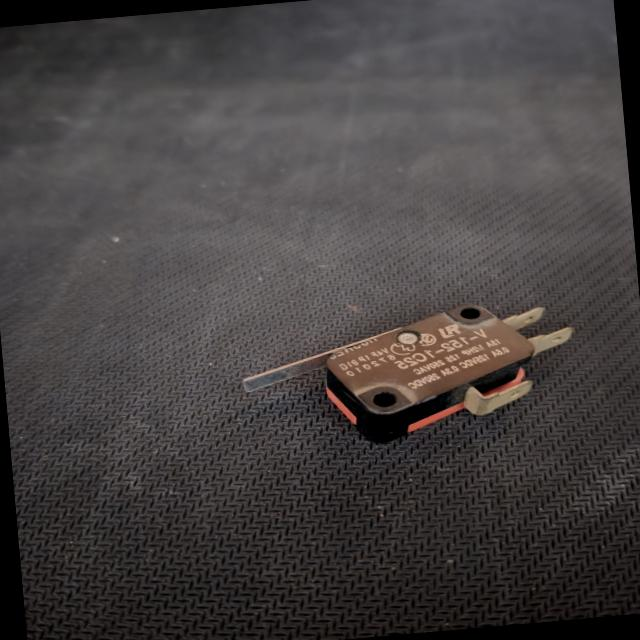switch: (200, 278, 601, 464)
